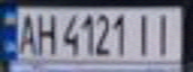1: (109, 11, 133, 56), (78, 11, 96, 56)
2: (93, 11, 115, 56)
4: (57, 11, 81, 55)
A: (15, 10, 39, 55)
H: (33, 10, 57, 56)
I: (148, 9, 181, 56), (130, 10, 157, 56)
